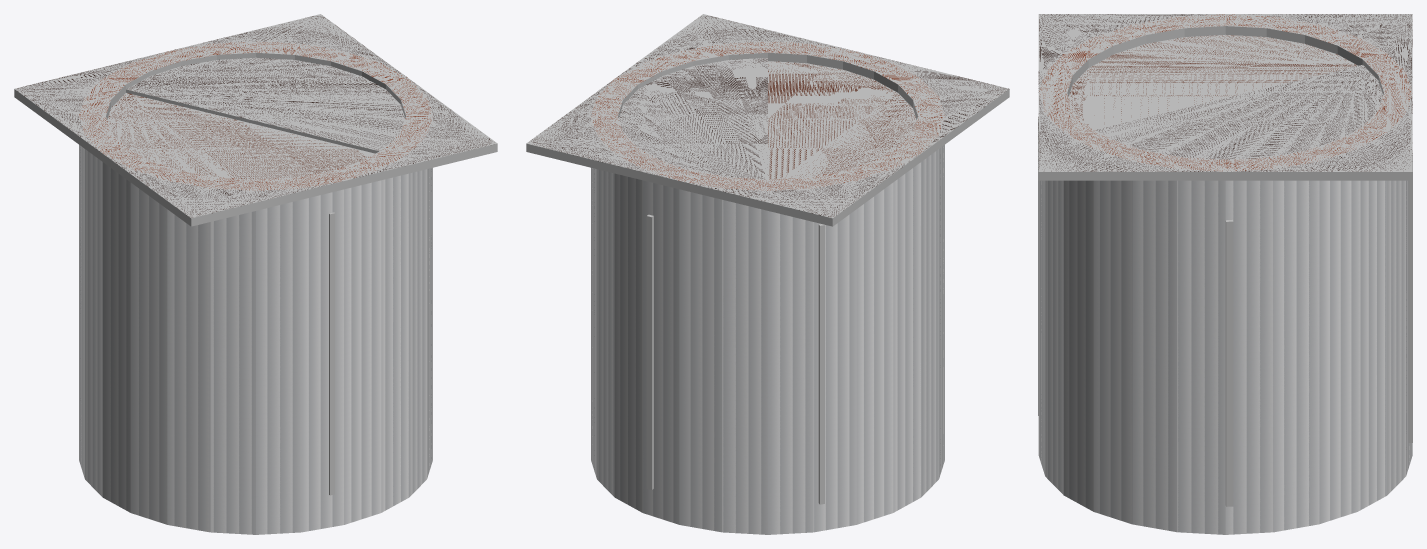
3 renders of one model, left to right at view 1: azimuth 30°, elevation 25°; view 2: azimuth 150°, elevation 25°; view 3: azimuth 270°, elevation 25°, orthographic. The views are drawn at different scales.
Visible parts, largest first — view 1: mesh1_mesh1-geometry, mesh3_mesh3-geometry; view 2: mesh1_mesh1-geometry, mesh2_mesh2-geometry; view 3: mesh1_mesh1-geometry, mesh2_mesh2-geometry.
Part boxes in pixels (x1,y1,x2,y2): mesh1_mesh1-geometry: (14,14,497,534); mesh3_mesh3-geometry: (329,212,334,495); mesh1_mesh1-geometry: (526,14,1009,534); mesh2_mesh2-geometry: (646,214,653,489); mesh1_mesh1-geometry: (1038,14,1412,534); mesh2_mesh2-geometry: (1408,152,1412,442).
Size of the model in its own units: 0.5673 by 0.6014 by 0.5626.
